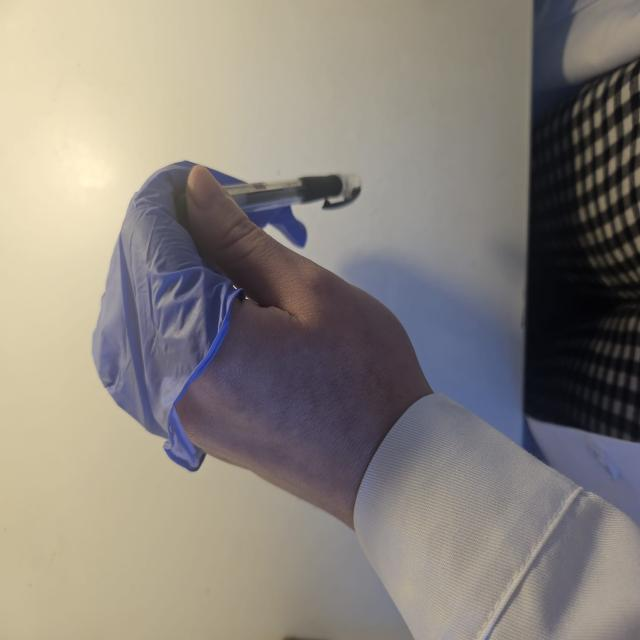glove_partial: (91, 160, 382, 538)
